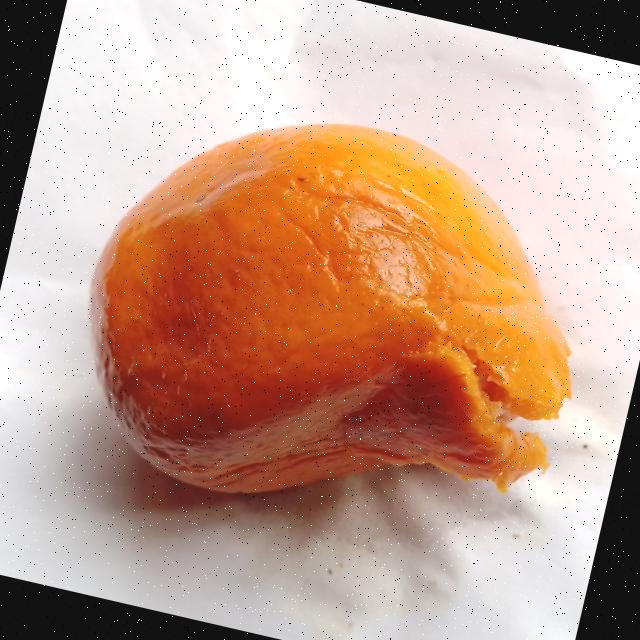Rotten: (50, 74, 612, 564)
